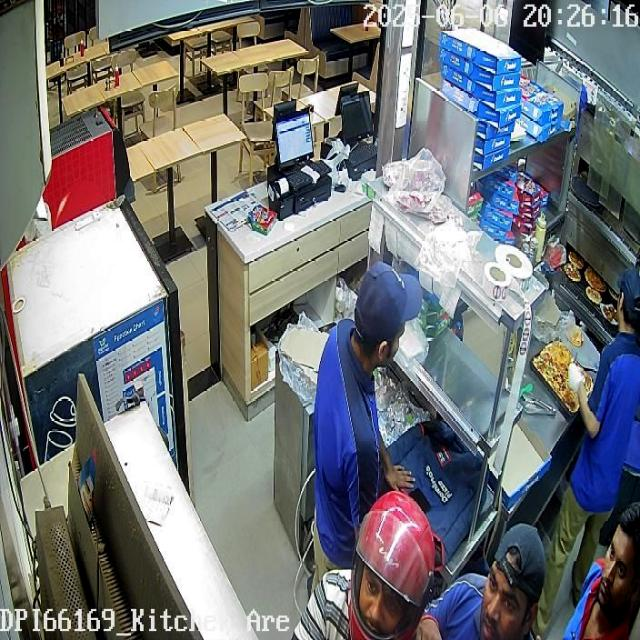helmet: (347, 493, 438, 639)
